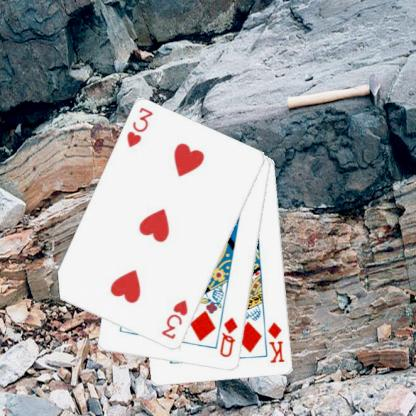3H: (158, 297, 190, 341), (124, 105, 154, 150)
KD: (265, 319, 286, 365)
QD: (217, 314, 239, 359)
